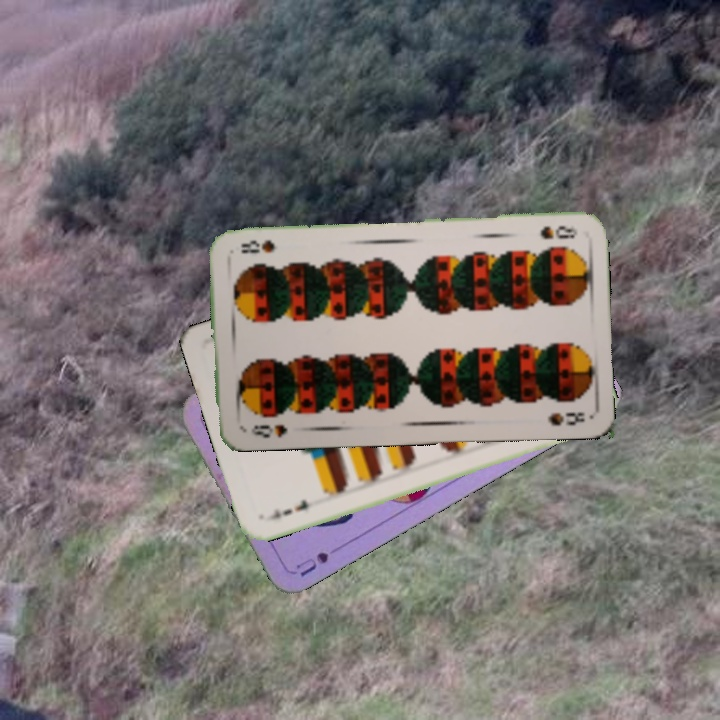E7: (262, 496, 312, 523)
S8: (247, 420, 290, 441), (536, 222, 580, 242)
SU: (292, 539, 347, 579)
